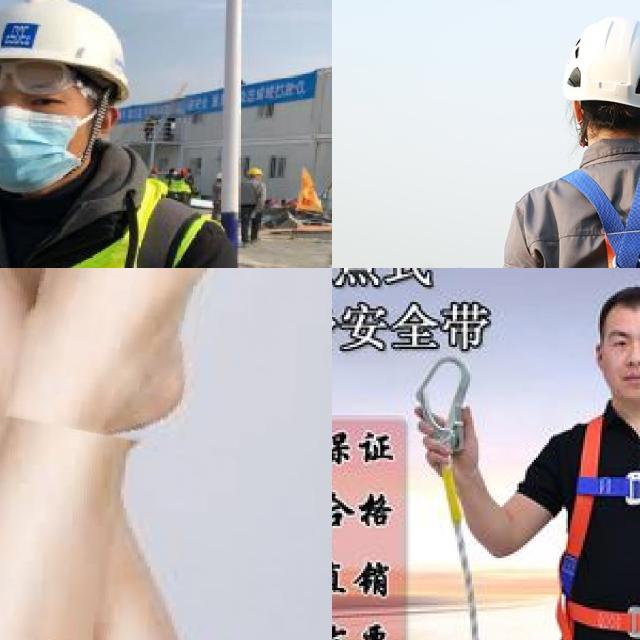Barefoots: (13, 268, 247, 477)
Harness: (553, 408, 640, 640), (536, 157, 640, 268)
No_Glasses: (607, 329, 640, 354)
face_mask: (0, 64, 81, 192)
glasses: (0, 58, 82, 103)
head_helmet: (0, 0, 129, 92)
person: (0, 0, 255, 268)
vest: (0, 161, 230, 268)
